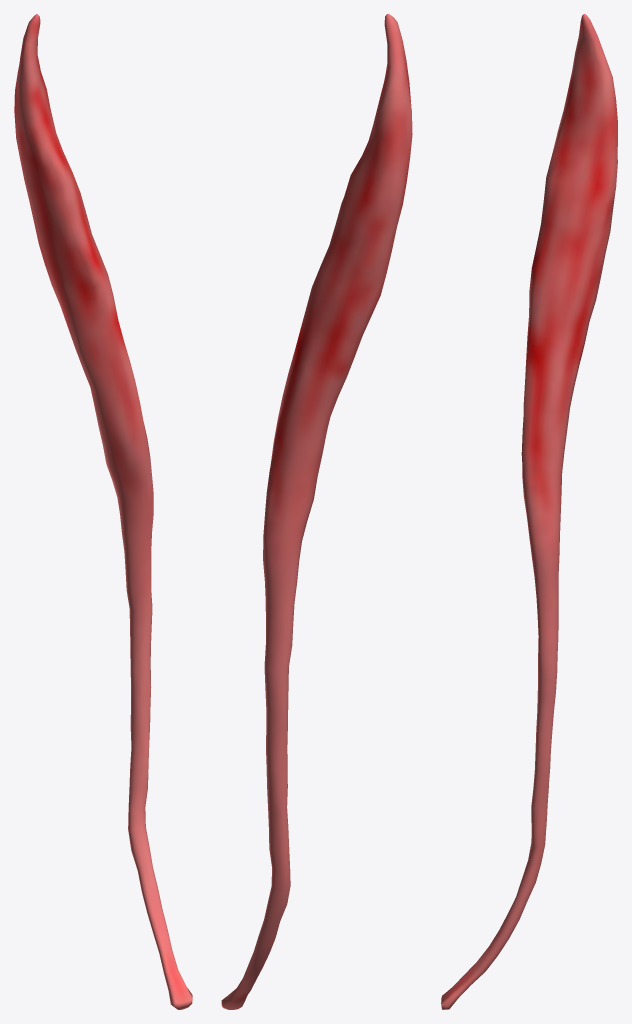
File: Common_Digital_Extensor.glb
The picture shows the model from 3 angles, left to right: view 1: azimuth 30°, elevation 25°; view 2: azimuth 210°, elevation 25°; view 3: azimuth 270°, elevation 25°; orthographic projection. The views are drawn at different scales.
Parts seen in each view (by area): view 1: common_digital_extensor1.002; view 2: common_digital_extensor1.002; view 3: common_digital_extensor1.002.
Part boxes in pixels (x1,y1,x2,y2): common_digital_extensor1.002: (14, 14, 192, 1009); common_digital_extensor1.002: (221, 14, 412, 1009); common_digital_extensor1.002: (441, 14, 617, 1009).
Bounding box in the file's own units: 0.0946 × 0.777 × 0.13.
1 material, 1 textured.
